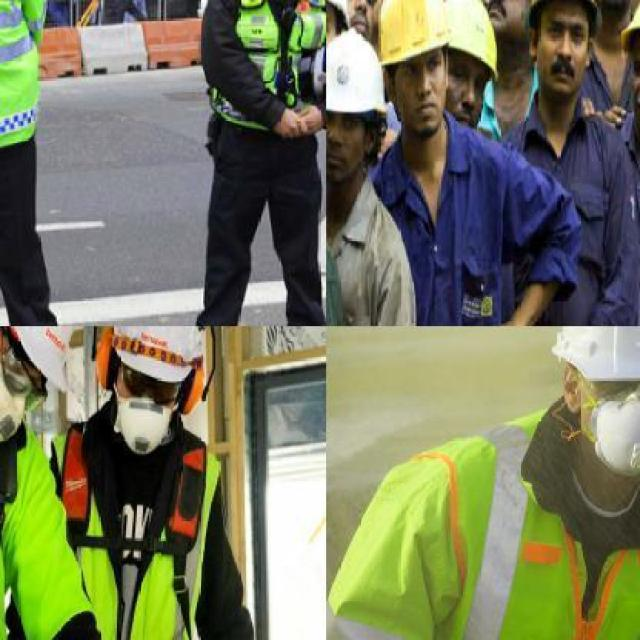Vest: (326, 416, 639, 638), (50, 414, 222, 638), (381, 137, 534, 325), (224, 0, 324, 143), (0, 0, 62, 160)
